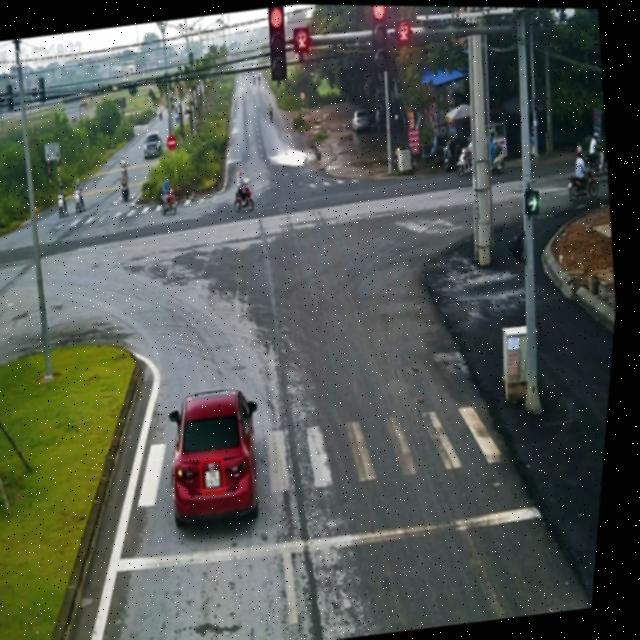Red: (264, 7, 294, 80), (366, 4, 396, 74)
